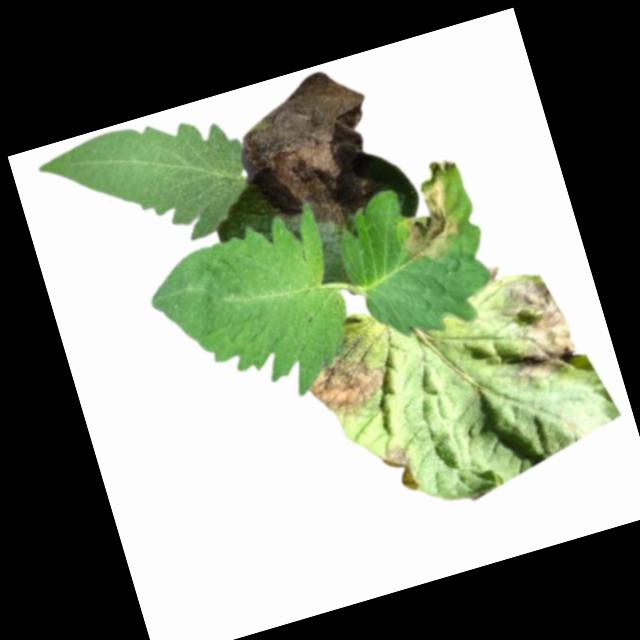Late_blight: (225, 61, 397, 245), (480, 264, 583, 390), (380, 152, 481, 271), (297, 340, 392, 428), (380, 442, 419, 494), (485, 263, 501, 281)
healthy: (137, 196, 367, 429), (32, 97, 262, 277)
